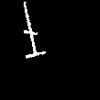double_crochet: (24, 2, 45, 57)
